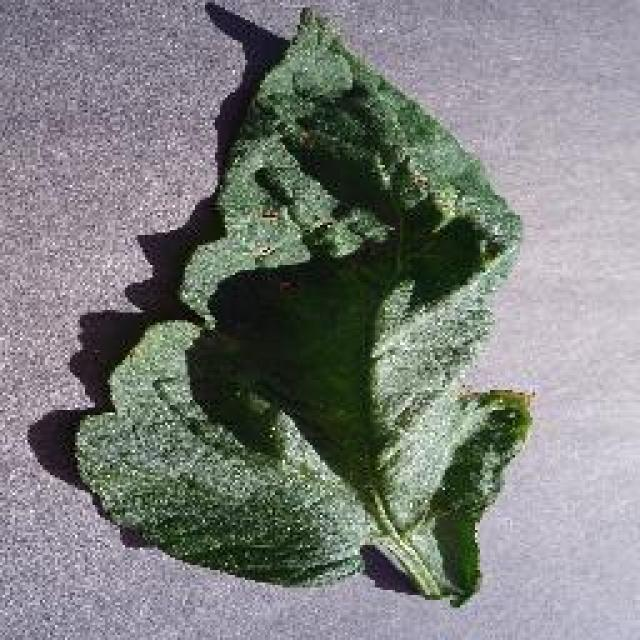Tomato Septoria spot leaf: (78, 10, 540, 595)
